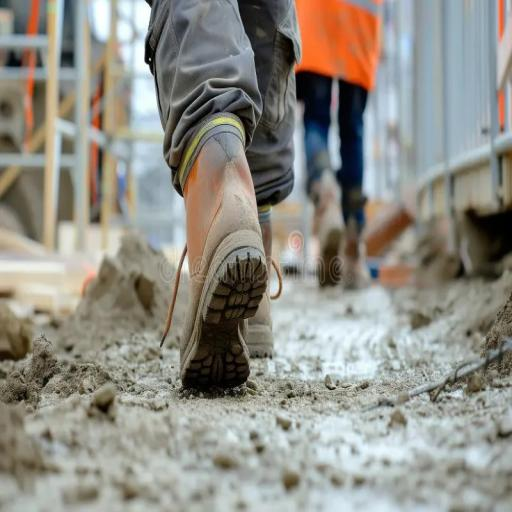safety_boots: (155, 160, 286, 424)
